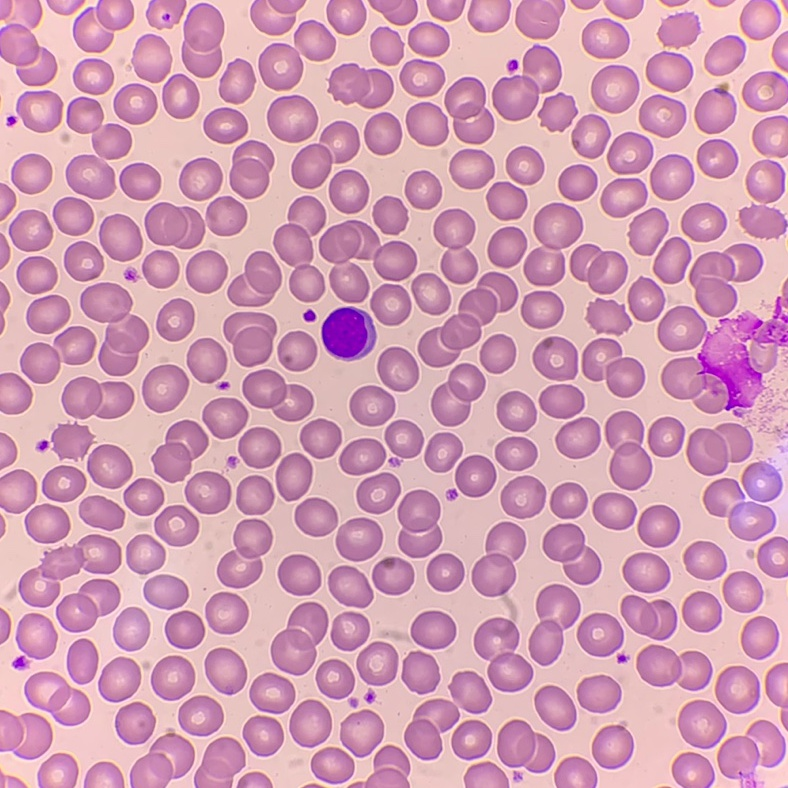RBC: (662, 314, 786, 413), (418, 272, 517, 366), (19, 535, 120, 606), (80, 283, 148, 375), (319, 220, 416, 280), (274, 196, 325, 301), (690, 244, 762, 316), (492, 46, 561, 120), (524, 203, 582, 285), (292, 121, 359, 188), (704, 478, 774, 540), (474, 618, 532, 691), (271, 602, 327, 674), (529, 585, 579, 664), (472, 522, 525, 596), (67, 97, 131, 158), (718, 721, 784, 778), (218, 519, 271, 587), (582, 338, 644, 396), (605, 411, 651, 489), (0, 23, 56, 85), (243, 370, 312, 420), (543, 524, 600, 584), (130, 733, 193, 787), (25, 672, 89, 725), (687, 423, 752, 475), (637, 645, 711, 690), (56, 579, 119, 631), (153, 421, 207, 481), (431, 364, 484, 425), (434, 209, 477, 283), (405, 699, 458, 759), (445, 77, 493, 143), (182, 3, 223, 77), (497, 720, 554, 772), (228, 251, 281, 306), (62, 377, 133, 418), (398, 490, 441, 557), (321, 307, 375, 360), (329, 64, 393, 108), (224, 312, 276, 366), (570, 244, 627, 293), (145, 203, 204, 248), (194, 737, 244, 787), (230, 141, 273, 198), (621, 595, 676, 639), (267, 95, 317, 142), (678, 700, 725, 748), (591, 65, 638, 112), (142, 365, 187, 411), (658, 306, 705, 350), (66, 155, 114, 198), (716, 666, 759, 713), (695, 84, 736, 133), (259, 43, 302, 89), (340, 710, 383, 756), (650, 154, 693, 199), (99, 215, 142, 260), (577, 613, 622, 656), (87, 445, 131, 488), (151, 656, 194, 700), (336, 518, 381, 560), (639, 95, 685, 136), (205, 648, 246, 694), (290, 700, 331, 746), (533, 337, 577, 379), (16, 91, 61, 132), (607, 132, 652, 173), (185, 472, 230, 513), (364, 746, 409, 787), (98, 658, 140, 701), (501, 476, 545, 517), (328, 566, 372, 607), (535, 686, 576, 730), (646, 52, 692, 91), (623, 553, 669, 592), (179, 158, 221, 200), (406, 102, 447, 145), (9, 210, 52, 251), (556, 417, 599, 458), (592, 725, 633, 768), (203, 398, 247, 438), (16, 614, 56, 658), (250, 673, 294, 713), (601, 178, 646, 217), (582, 19, 628, 57), (133, 34, 170, 81), (630, 208, 667, 255), (638, 505, 679, 547), (378, 347, 418, 390), (155, 505, 198, 545), (357, 642, 397, 685), (743, 71, 787, 110), (450, 149, 494, 188), (187, 338, 226, 382), (350, 386, 394, 425), (276, 453, 312, 500), (206, 592, 247, 633), (357, 473, 399, 513), (278, 555, 320, 595), (179, 696, 222, 735), (682, 203, 726, 241), (25, 504, 69, 542), (654, 237, 690, 283), (186, 251, 226, 292), (370, 284, 410, 325), (239, 427, 280, 467), (455, 455, 495, 496), (114, 84, 156, 123), (329, 170, 368, 212), (451, 671, 490, 713), (115, 702, 154, 744), (516, 0, 559, 38), (400, 59, 444, 96), (411, 611, 455, 648), (300, 419, 341, 458), (723, 571, 762, 612), (73, 9, 111, 51), (746, 160, 784, 202), (27, 295, 69, 333), (295, 498, 337, 536), (577, 675, 620, 712), (162, 74, 198, 118), (340, 439, 385, 474), (294, 21, 334, 60), (705, 35, 744, 75), (11, 154, 51, 193), (497, 391, 536, 431), (243, 716, 283, 755), (412, 273, 450, 314), (684, 541, 725, 579), (572, 115, 609, 157), (402, 651, 439, 693), (628, 278, 664, 321), (113, 607, 149, 650), (682, 592, 721, 631), (697, 139, 737, 177), (53, 197, 93, 235), (206, 197, 246, 235), (488, 227, 526, 267), (55, 326, 95, 364), (21, 343, 59, 383), (364, 113, 401, 154), (521, 291, 562, 328), (157, 299, 194, 340), (0, 470, 36, 512), (593, 493, 635, 529), (204, 108, 247, 143), (42, 466, 85, 501), (739, 205, 786, 237), (18, 713, 51, 758), (278, 331, 316, 370), (742, 462, 780, 501), (452, 720, 491, 758), (373, 557, 413, 594), (741, 617, 777, 658), (219, 60, 254, 102), (540, 385, 584, 418), (79, 496, 123, 529), (64, 242, 102, 280), (126, 535, 164, 573), (331, 612, 369, 650), (316, 660, 354, 698), (741, 0, 778, 39), (487, 182, 526, 219), (17, 256, 56, 293), (165, 611, 204, 648), (120, 163, 160, 199), (311, 748, 353, 782), (144, 575, 187, 608), (330, 265, 368, 302), (236, 476, 273, 514), (648, 417, 684, 456), (425, 433, 461, 472), (124, 479, 163, 515), (73, 59, 113, 94), (251, 0, 292, 34), (672, 753, 713, 787), (587, 300, 629, 333), (506, 147, 543, 184), (385, 420, 422, 457), (405, 171, 441, 209), (408, 22, 448, 56), (753, 116, 787, 156), (52, 424, 92, 458), (495, 437, 536, 470), (427, 554, 463, 591), (658, 13, 698, 46), (67, 639, 97, 683), (559, 165, 596, 200), (143, 250, 178, 287), (480, 335, 515, 372), (327, 0, 365, 34), (540, 94, 575, 130), (550, 483, 586, 518), (373, 197, 407, 234), (0, 373, 31, 413), (555, 757, 596, 787), (371, 27, 403, 64), (758, 537, 787, 577), (370, 0, 416, 24), (465, 762, 508, 787), (96, 0, 133, 29), (147, 0, 185, 27), (765, 663, 787, 708), (84, 762, 123, 787), (0, 710, 22, 750), (51, 754, 77, 787), (427, 0, 464, 20), (606, 0, 643, 18), (0, 184, 15, 218), (238, 772, 271, 787), (0, 433, 16, 462), (23, 0, 41, 25), (270, 0, 303, 13), (0, 610, 10, 641), (0, 236, 9, 265), (0, 0, 11, 18), (0, 285, 9, 306), (574, 0, 596, 8), (499, 0, 509, 16), (777, 57, 787, 70), (9, 779, 22, 787), (125, 269, 134, 279), (666, 0, 683, 5), (781, 711, 787, 725), (16, 657, 25, 665), (508, 61, 516, 69), (305, 312, 313, 320), (781, 33, 787, 42), (783, 284, 787, 296), (0, 520, 4, 532), (0, 776, 4, 787), (353, 783, 362, 787), (555, 0, 563, 4), (721, 0, 729, 4), (40, 783, 48, 787)
